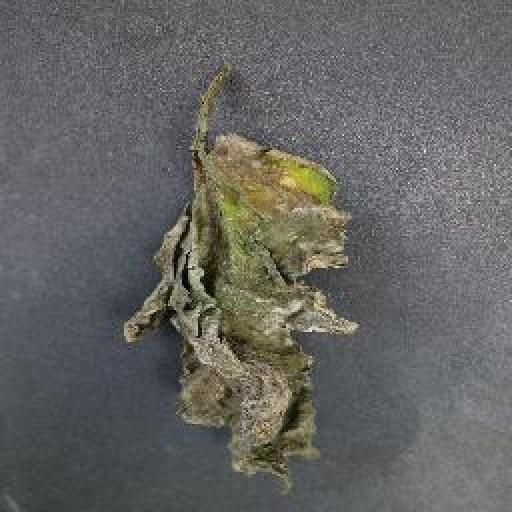disease_tomato: (124, 128, 353, 491)
